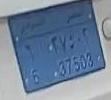city: (15, 38, 47, 89)
number: (40, 22, 104, 87)
text: (10, 1, 96, 42)
